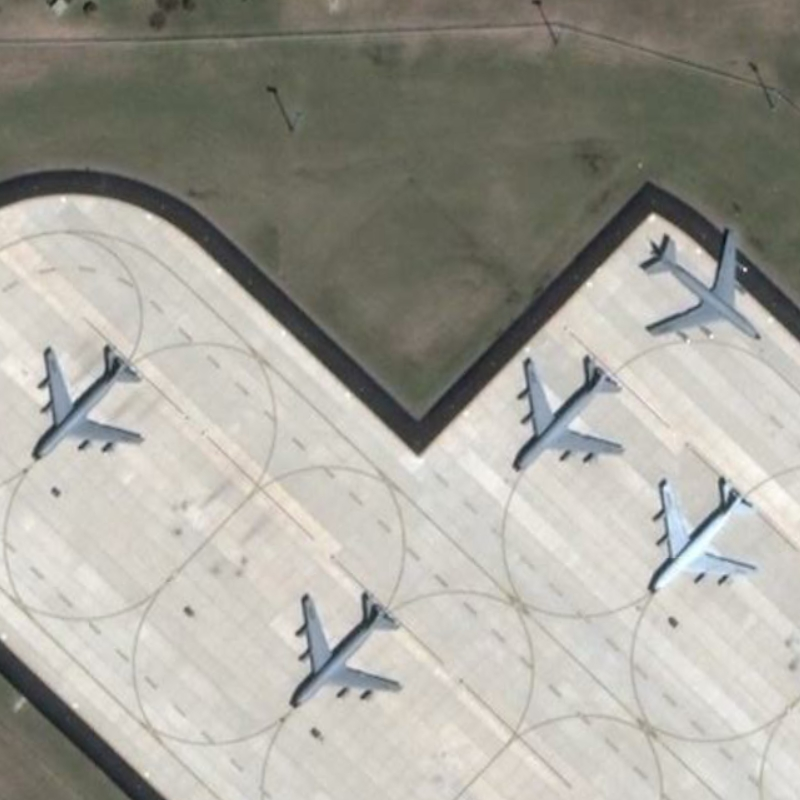A11: (643, 470, 768, 603)
A14: (284, 579, 410, 716), (634, 223, 767, 350), (507, 348, 629, 479), (30, 333, 149, 467)
